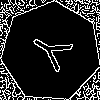Y: (26, 26, 82, 79)
